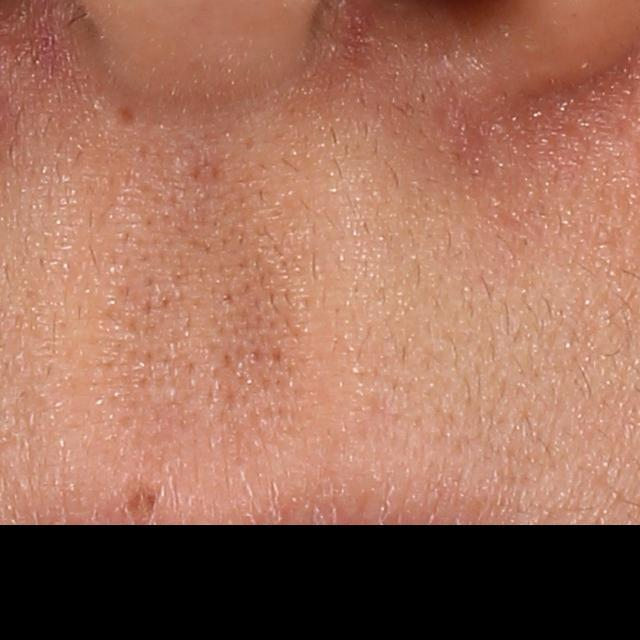atrophic_scar: (110, 105, 144, 134)
